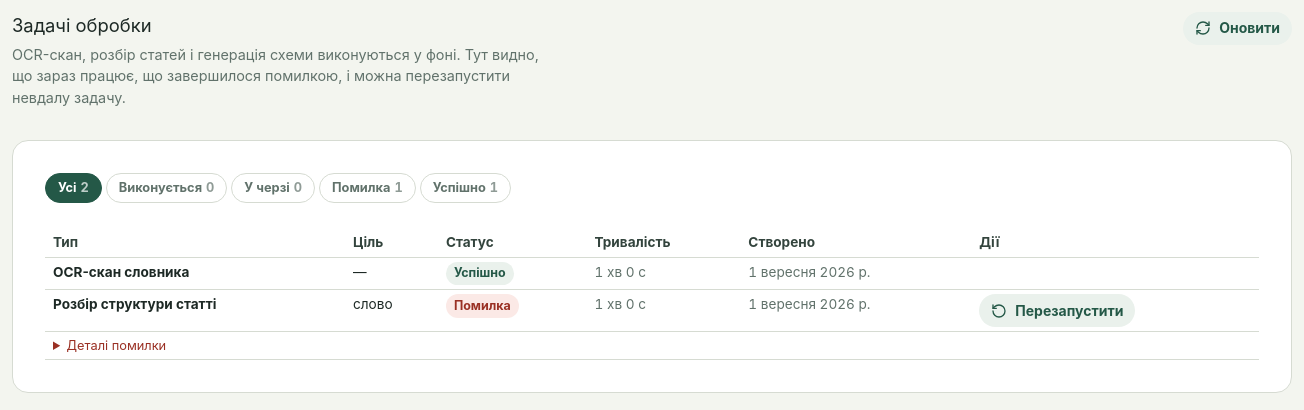
Test case: DictionaryTasksPage › filters the list by status
Expected: the text "OCR-скан словника" is shown, [45,258,345,290]
Click the button "Помилка1": (367, 188) [319,173,416,203]
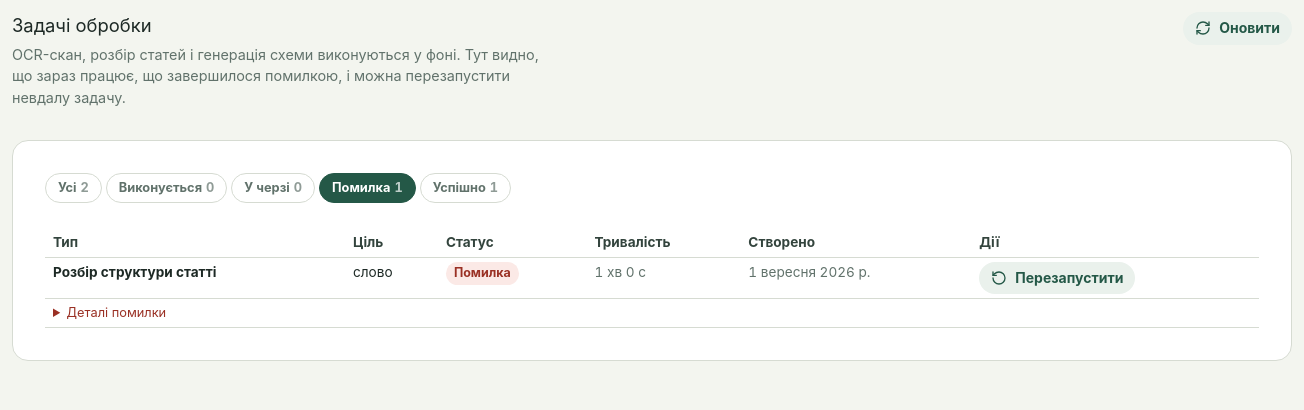
Expected: the text "Розбір структури статті" is shown, [45,258,345,299]
Now the text "OCR-скан словника" is gone
